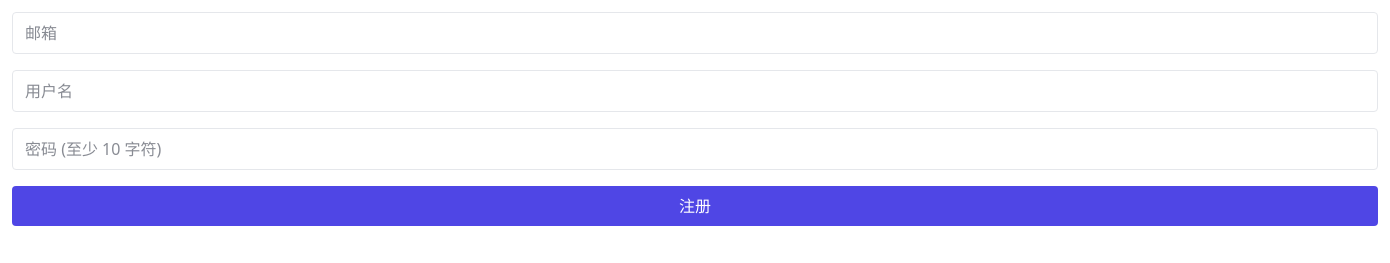
Test: RegisterForm › validates username min length
Type "a@b.com" into the field with placeholder "邮箱".
click(695, 33); type("a@b.com")  # box [12,12,1378,54]
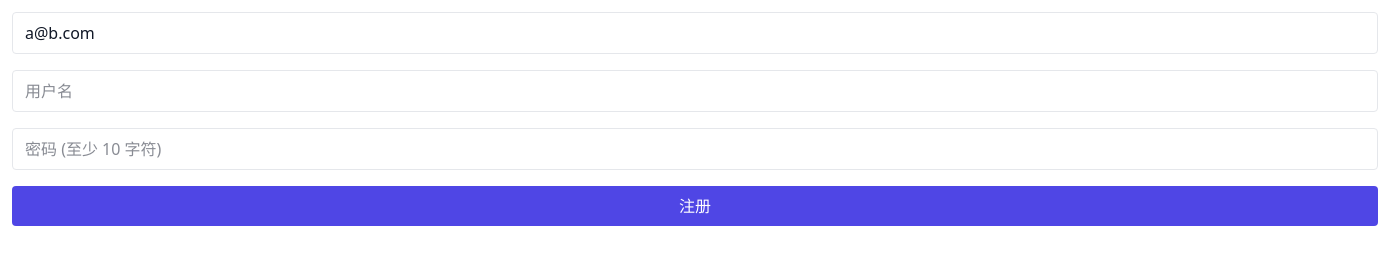
Type "ab" into the field with placeholder "用户名".
click(695, 91); type("ab")  # box [12,70,1378,112]
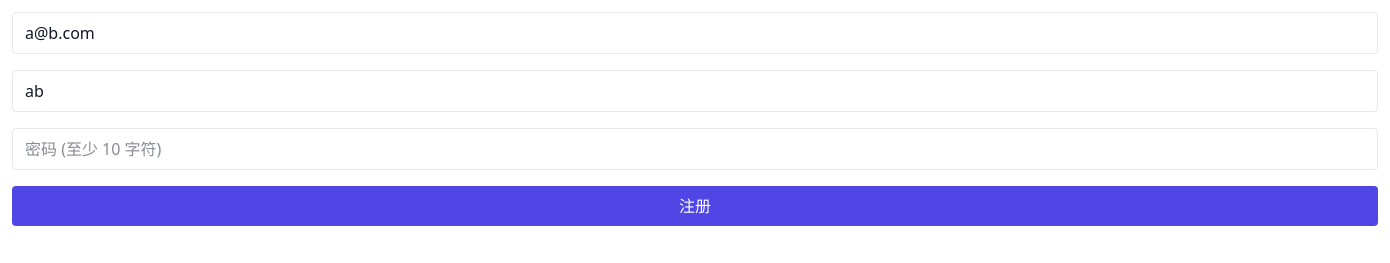
Type "Password123!" into the password field with placeholder "密码 (至少 10 字符)".
click(695, 149); type("Password123!")  # box [12,128,1378,170]
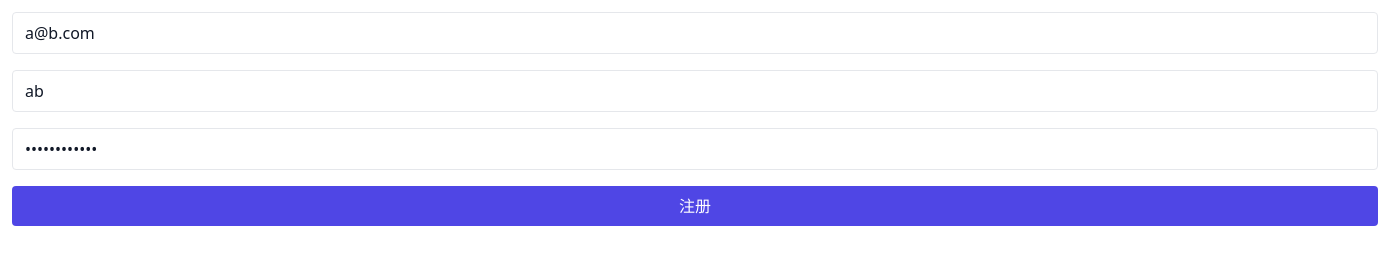
Click the button "注册".
click(695, 206)  # box [12,186,1378,226]
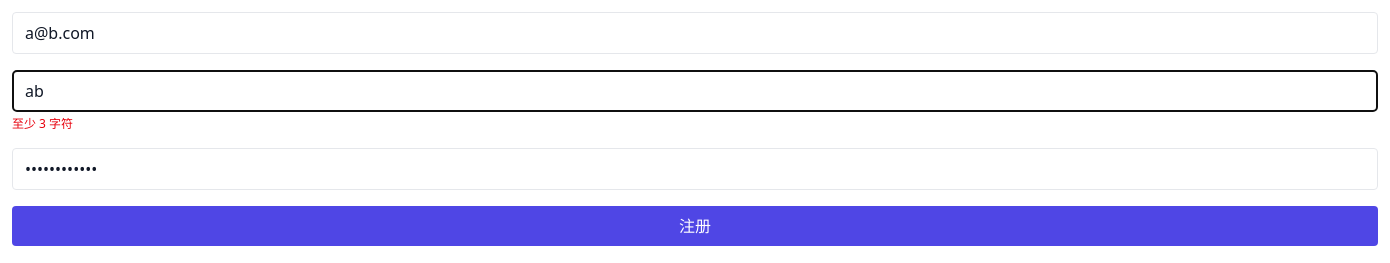
Check: the text "至少 3 字符" is shown, box [12,115,73,132]
